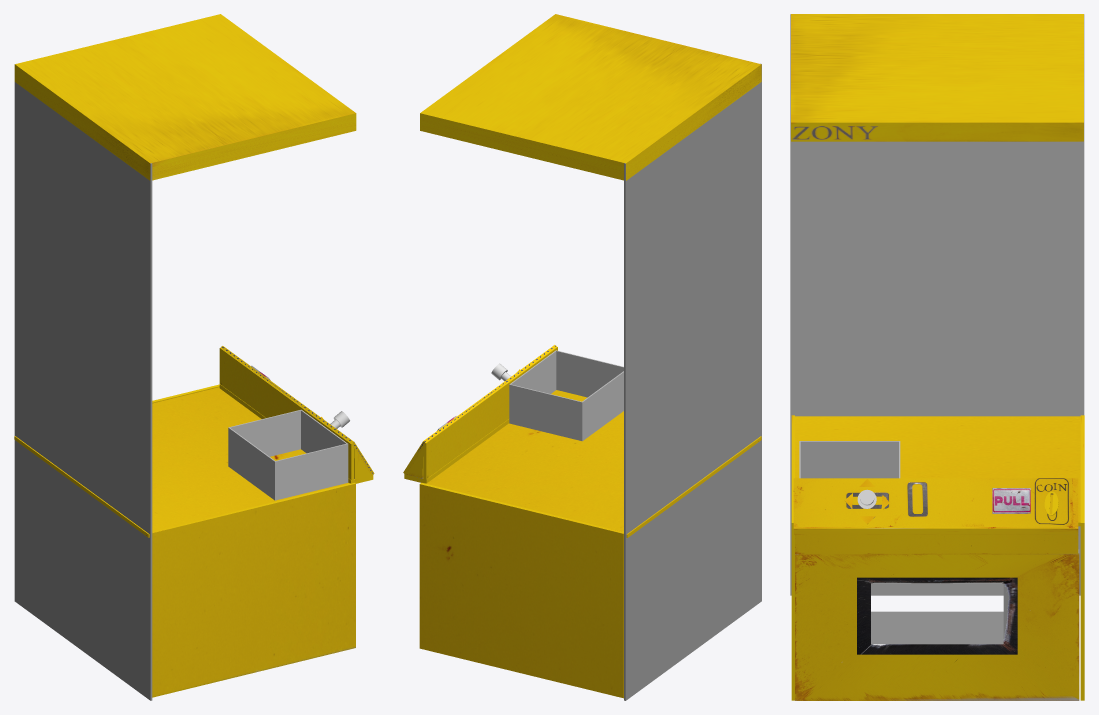
The model's file is ClawMachine New.fbx.
3 renders of one model, left to right at view 1: azimuth 30°, elevation 25°; view 2: azimuth 150°, elevation 25°; view 3: azimuth 270°, elevation 25°, orthographic. The views are drawn at different scales.
Visible parts, largest first — view 1: pCube1, pCube2, pCube7, pCube14, pCube8, pCube5, pCube6; view 2: pCube1, pCube3, pCube7, pCube14, pCube8, pCube5, pCube6; view 3: pCube1, pCube4, pCube7, pCube14, pCube6, pCube5, pCube8, pCube15, pCube3, pCube2, pCube9.
Boxes of the visible parts, x1=… form: pCube1: x1=14, y1=82, x2=152, y2=700; pCube2: x1=152, y1=483, x2=355, y2=697; pCube7: x1=14, y1=14, x2=356, y2=180; pCube14: x1=14, y1=387, x2=349, y2=537; pCube8: x1=228, y1=409, x2=348, y2=500; pCube5: x1=219, y1=348, x2=354, y2=483; pCube6: x1=220, y1=346, x2=374, y2=475; pCube1: x1=624, y1=63, x2=761, y2=700; pCube3: x1=419, y1=482, x2=623, y2=698; pCube7: x1=420, y1=14, x2=761, y2=180; pCube14: x1=425, y1=390, x2=761, y2=537; pCube8: x1=509, y1=350, x2=623, y2=441; pCube5: x1=423, y1=347, x2=557, y2=483; pCube6: x1=403, y1=345, x2=556, y2=474; pCube1: x1=790, y1=14, x2=1084, y2=595; pCube4: x1=795, y1=549, x2=1079, y2=700; pCube7: x1=791, y1=14, x2=1083, y2=141; pCube14: x1=795, y1=416, x2=1080, y2=526; pCube6: x1=793, y1=478, x2=1078, y2=528; pCube5: x1=795, y1=534, x2=1078, y2=554; pCube8: x1=799, y1=441, x2=900, y2=478; pCube15: x1=794, y1=529, x2=1078, y2=534; pCube3: x1=1080, y1=415, x2=1084, y2=700; pCube2: x1=791, y1=415, x2=794, y2=700; pCube9: x1=992, y1=488, x2=1030, y2=513.
Bounding box in the file's own units: 7.32 × 16.04 × 7.37.
